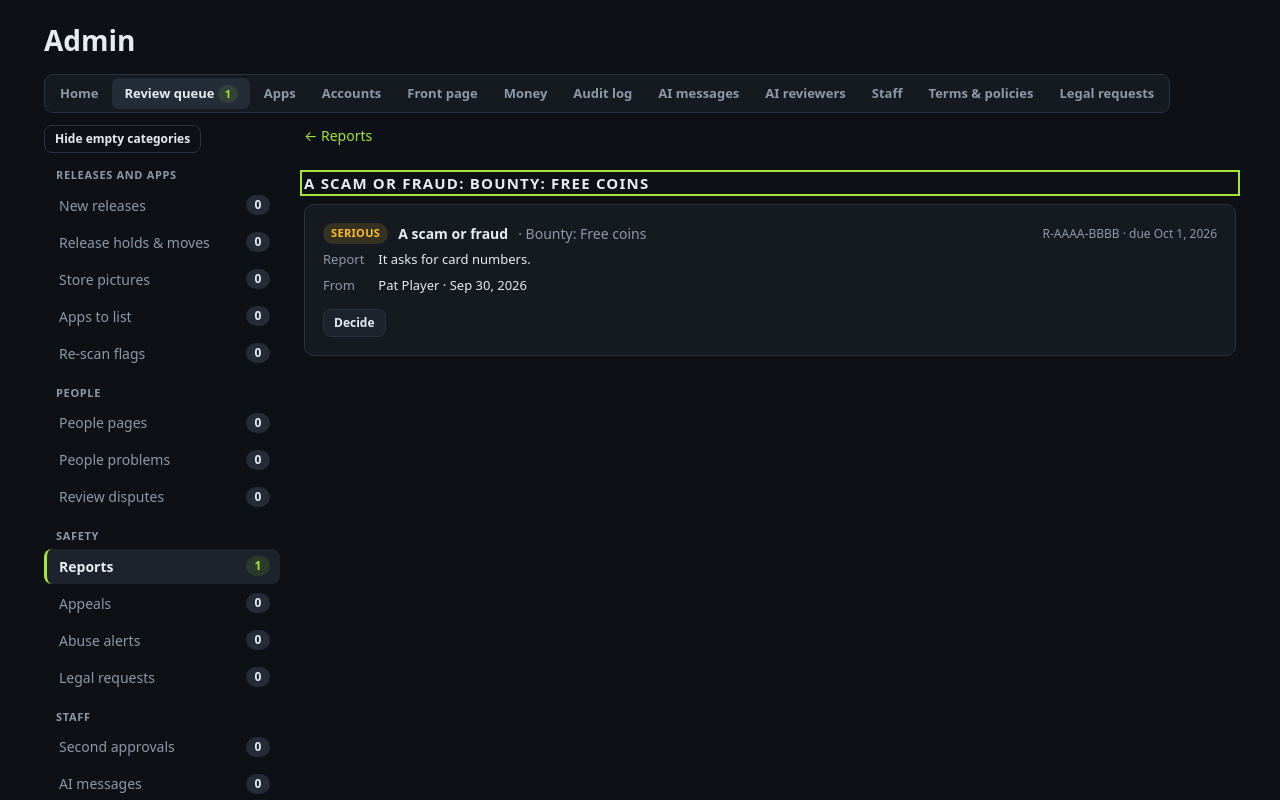
the admin panel › offers to hide a reported bounty
Click the button "Decide": coordinates (354, 323) [323,309,386,337]
(page scrolled)
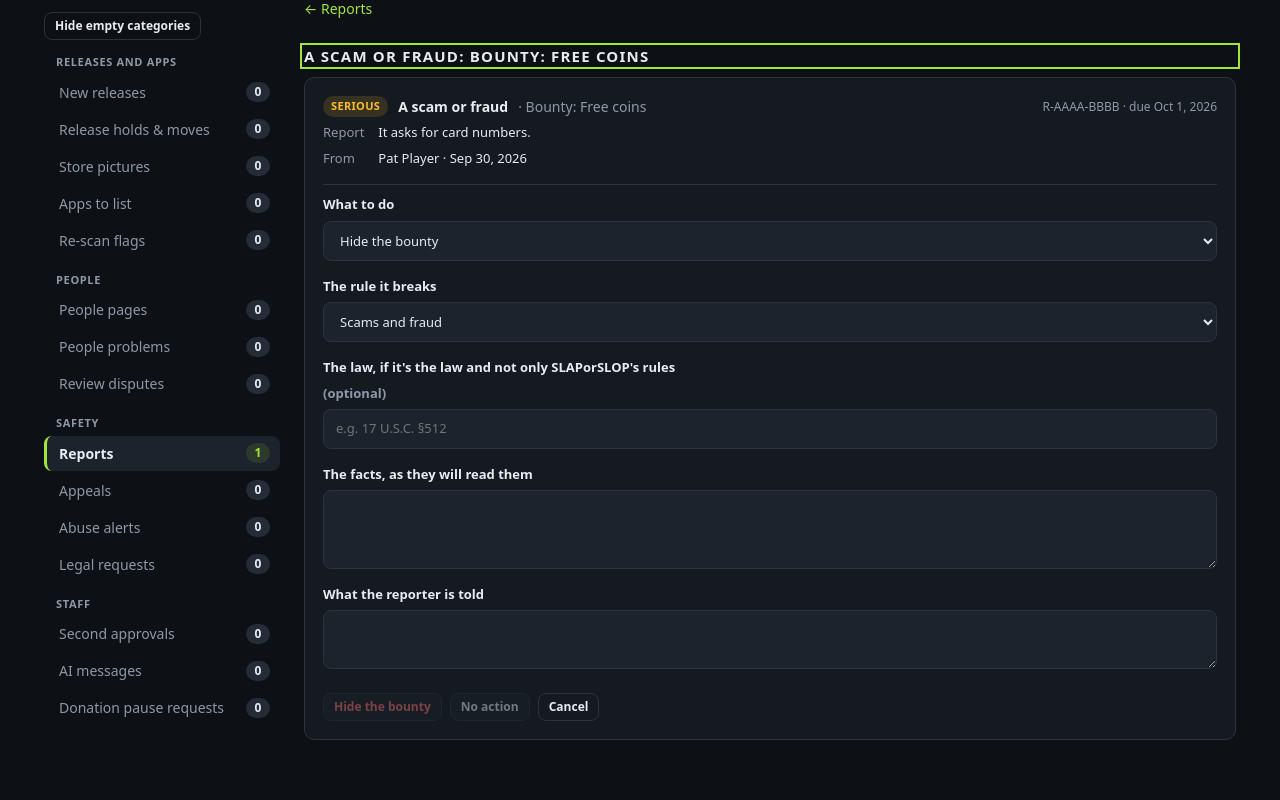
Expected: the button "Hide the bounty" is shown, [323,693,442,721]
